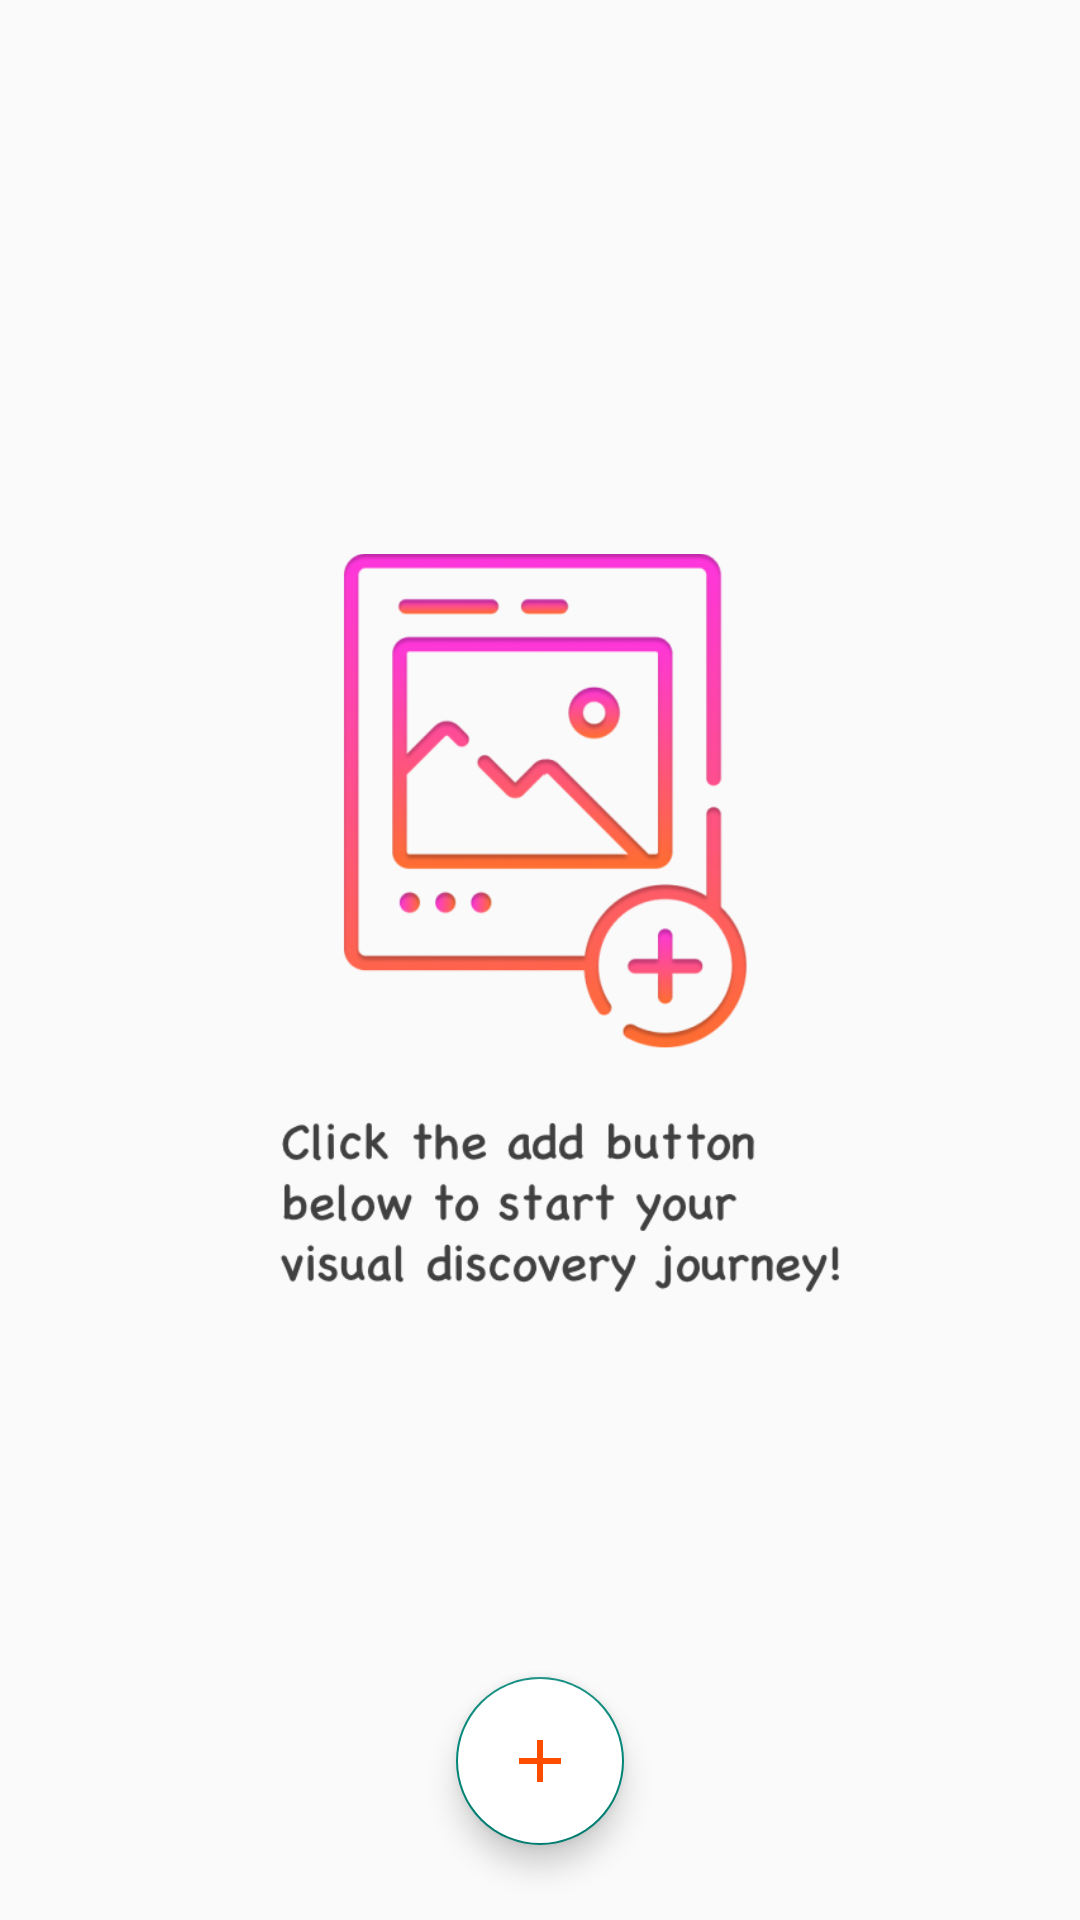

Named icons in this screenshot (1080px x 1920px) and their bounding boxes, (x1, y1, x2, y2):
add: (456, 1677, 624, 1845)
